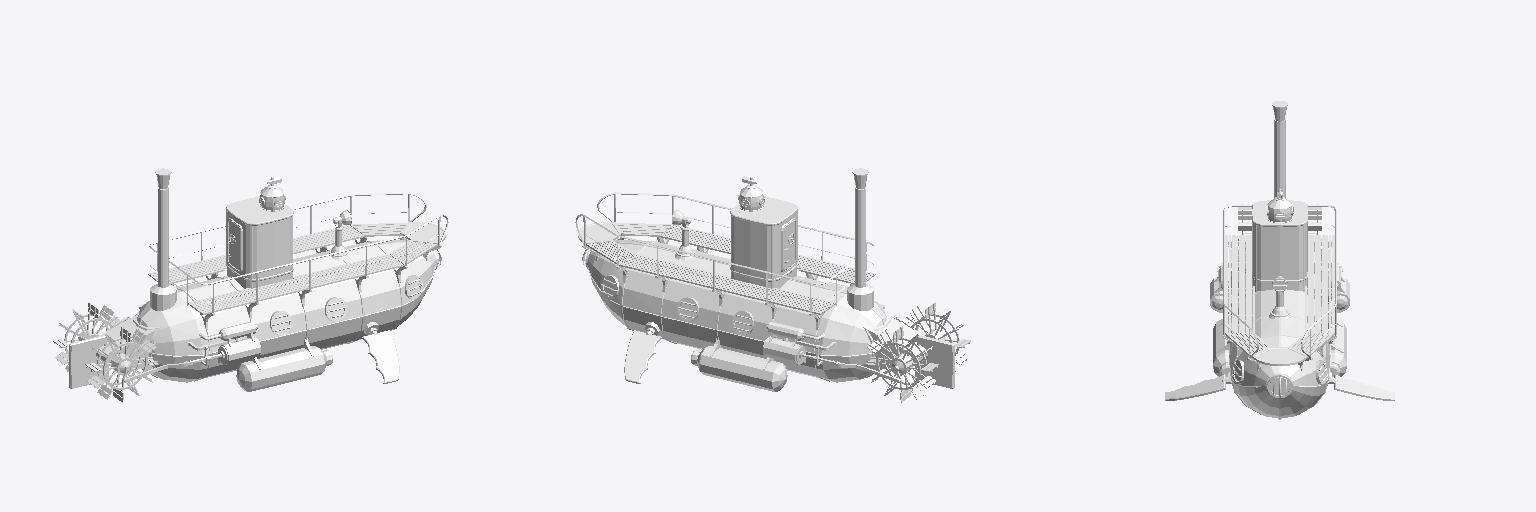
3 renders of one model, left to right at view 1: azimuth 30°, elevation 25°; view 2: azimuth 150°, elevation 25°; view 3: azimuth 270°, elevation 25°, orthographic.
Parts seen in each view (by area): view 1: ballasttank; view 2: ballasttank; view 3: ballasttank.
Boxes of the visible parts, box(x1,y1,x2,y2) form: ballasttank: box(53, 168, 448, 402); ballasttank: box(575, 168, 970, 402); ballasttank: box(1165, 101, 1394, 419).
Size of the model in its own units: 7.53 by 4.12 by 4.03.